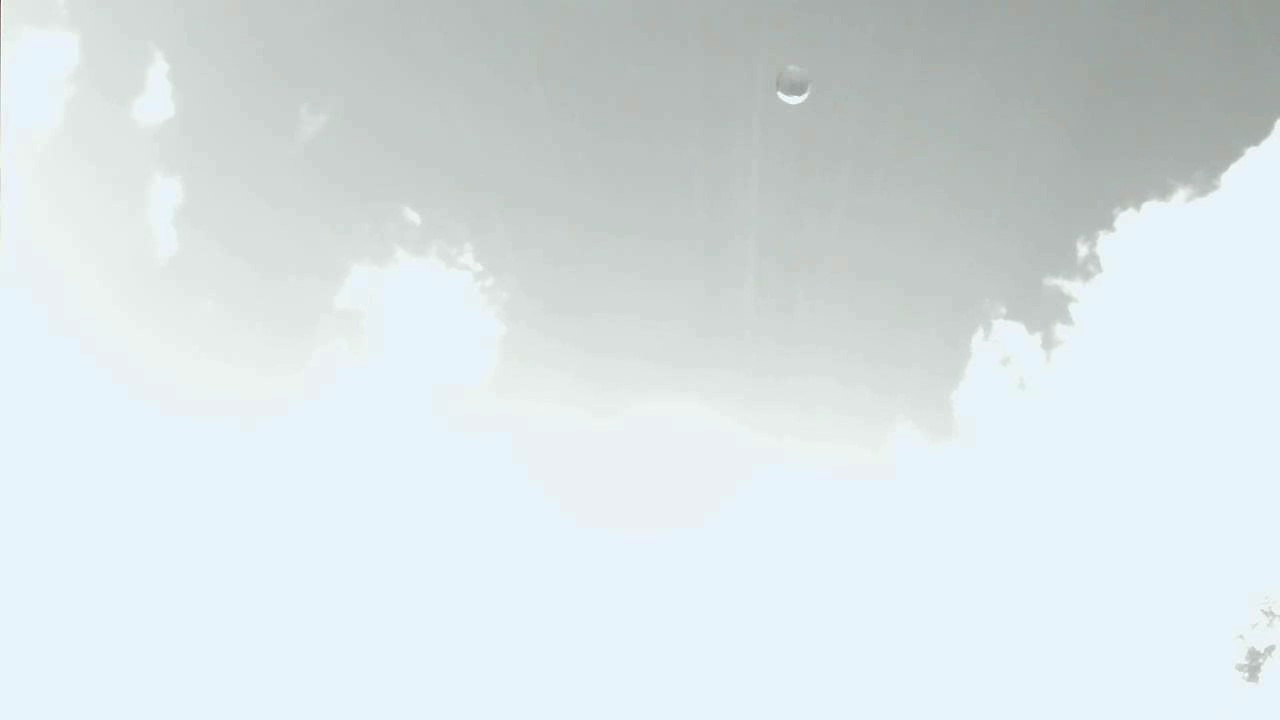Football-Spotter: (775, 65, 812, 104)
